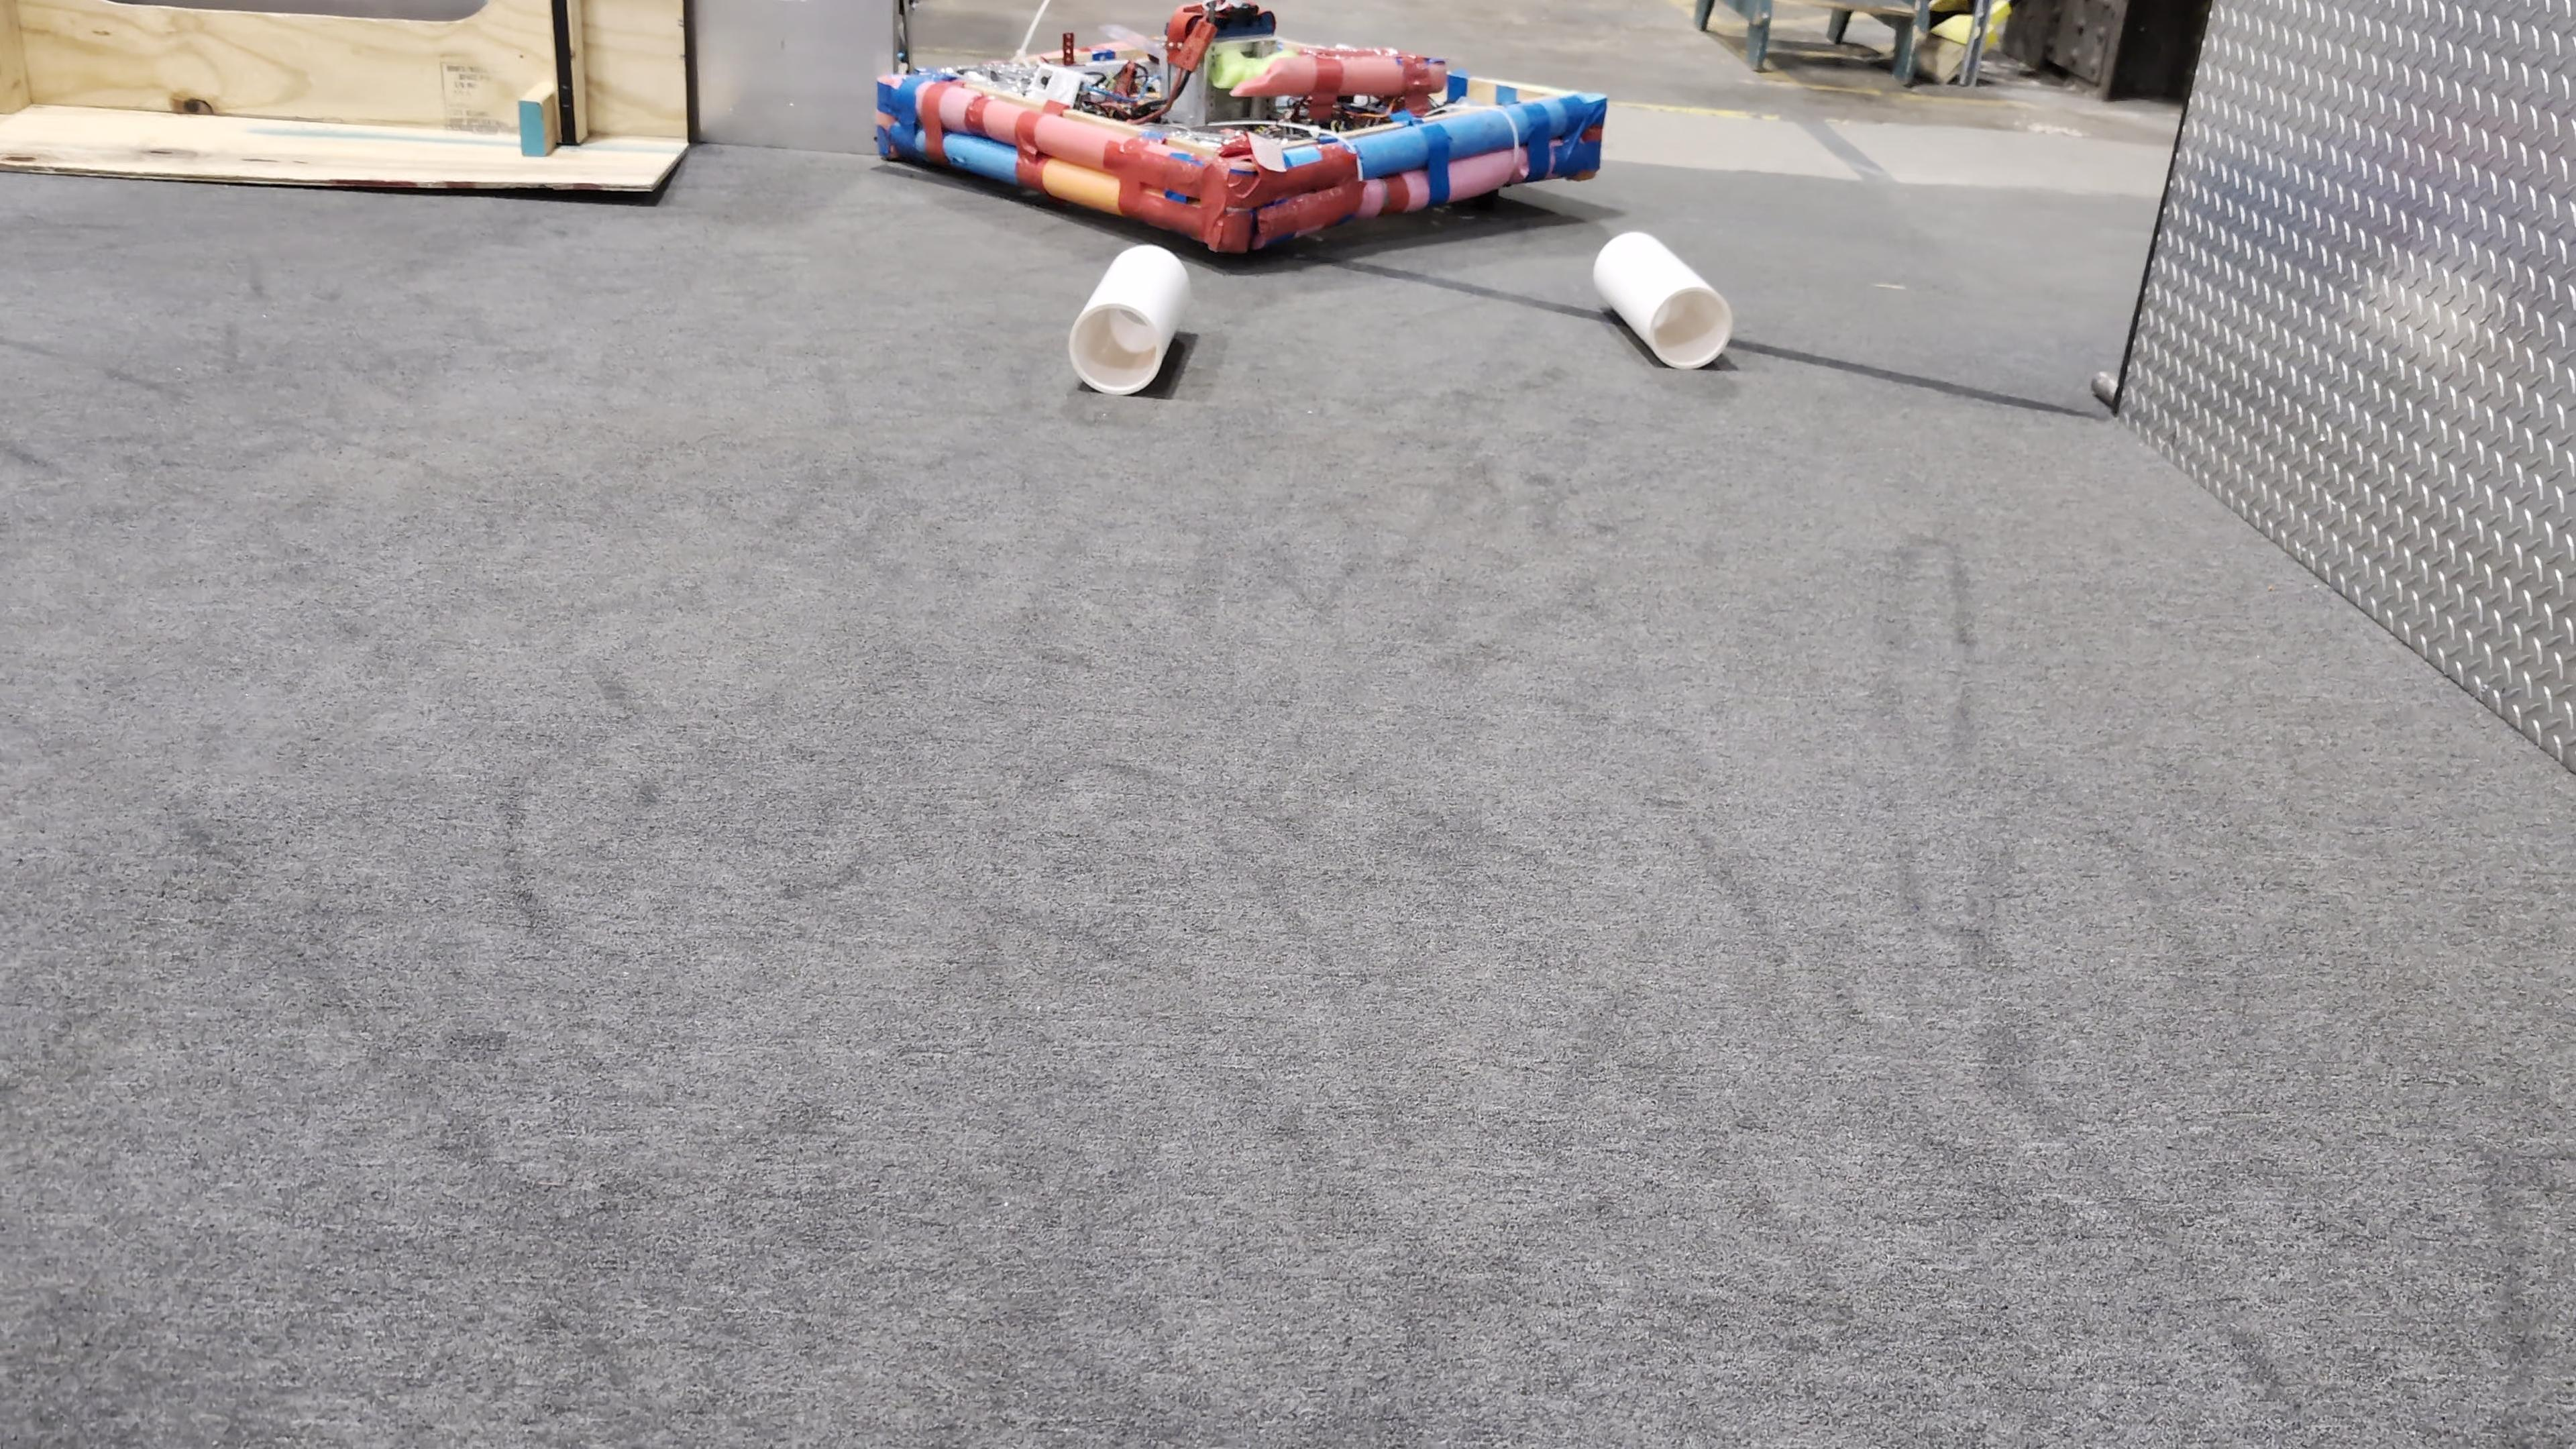coral: (1594, 225, 1734, 368), (1063, 239, 1189, 395)
